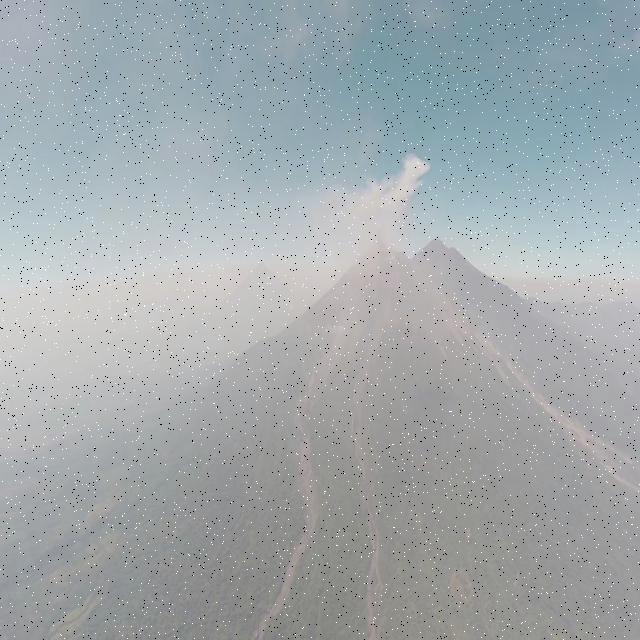Plume: (310, 144, 428, 247)
